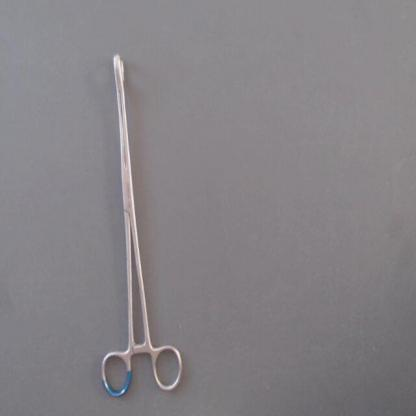Sponge Forceps: (95, 46, 190, 405)
